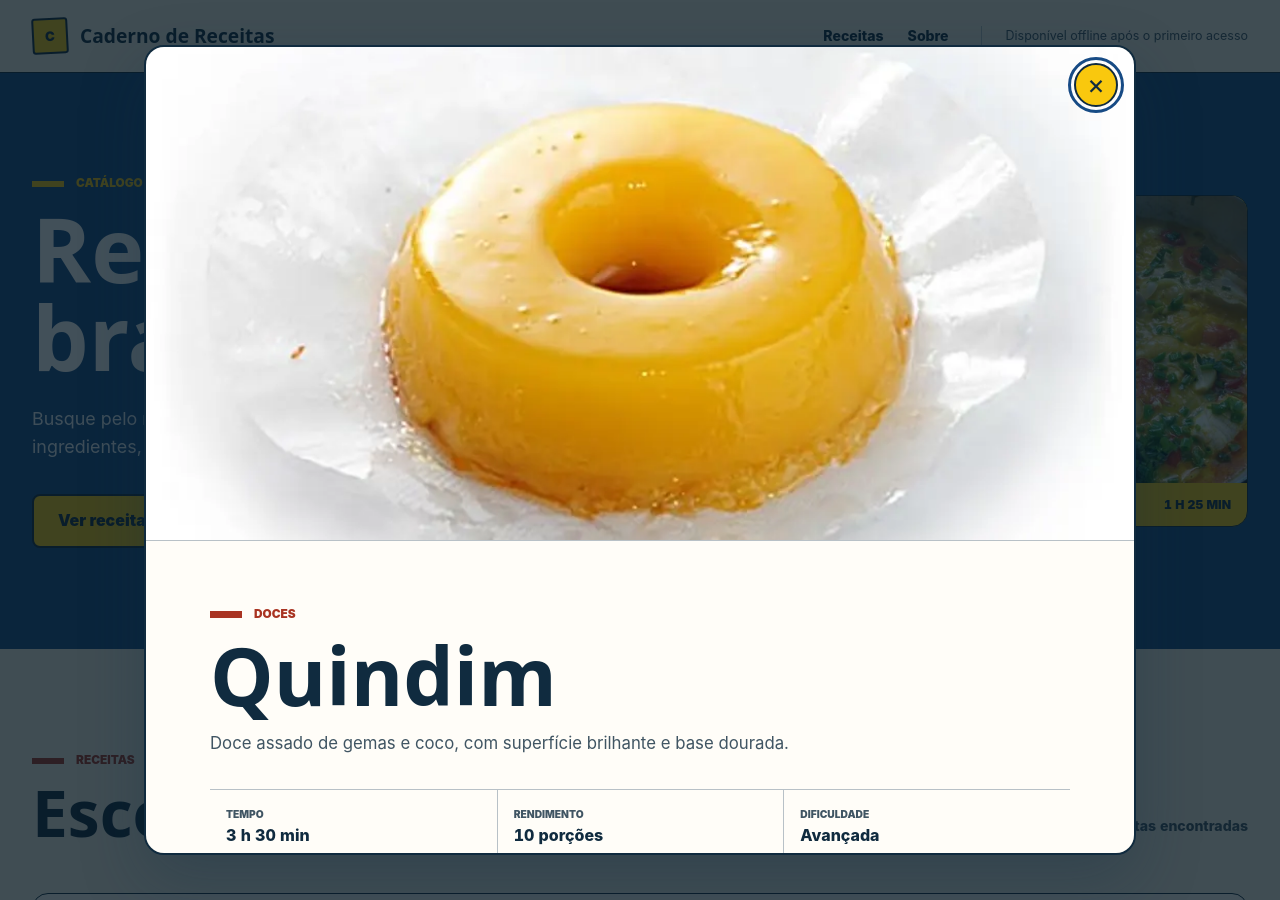
aplicação › abre link direto e remove o parâmetro ao fechar
The width and height of the screenshot is (1280, 900).
Step 1. Click the button named "Fechar receita: Quindim" → (1096, 85), box [1074,63,1118,107]
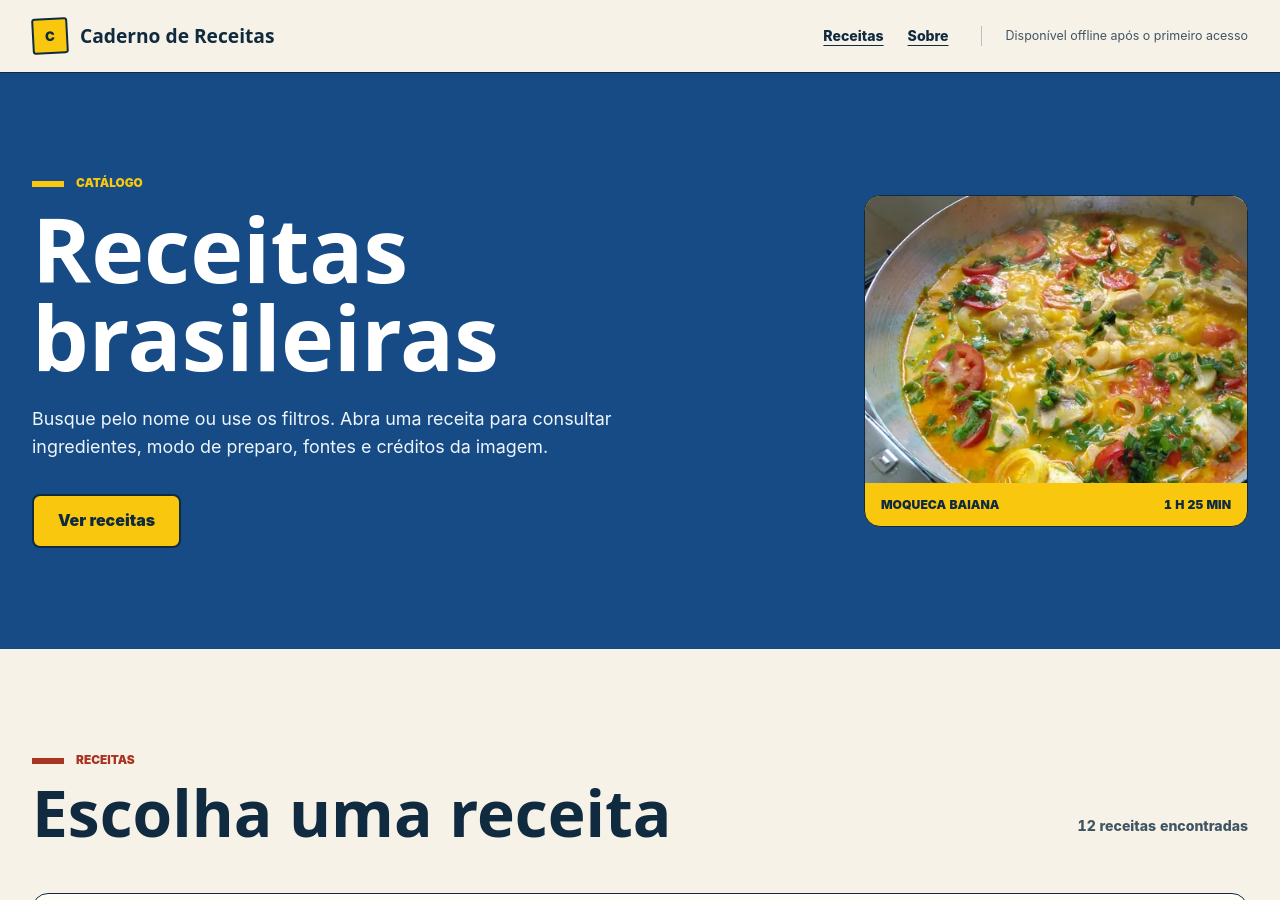
expect the dialog is gone: met
